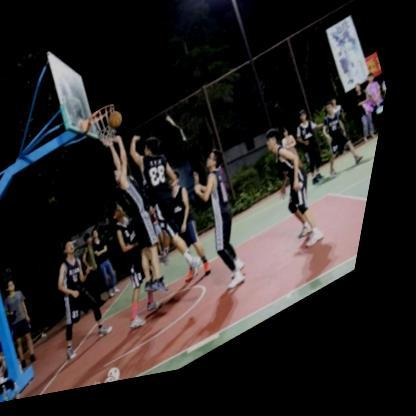basketball: (108, 112, 132, 138)
rim: (87, 103, 133, 157)
